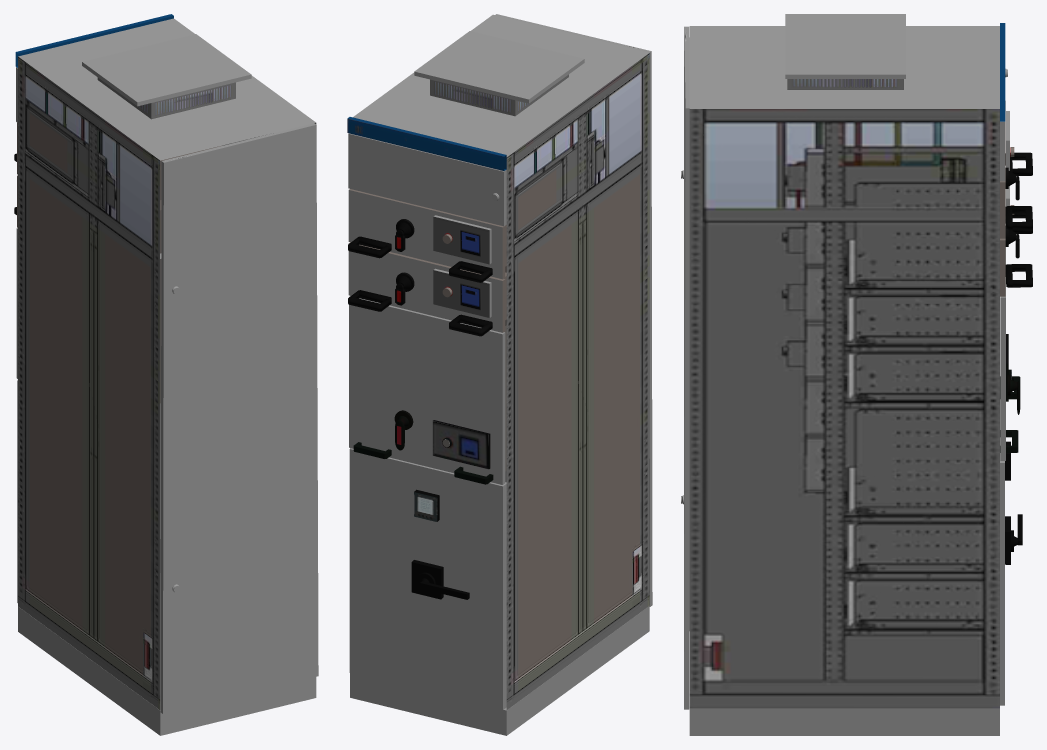
3 renders of one model, left to right at view 1: azimuth 30°, elevation 25°; view 2: azimuth 150°, elevation 25°; view 3: azimuth 270°, elevation 25°, orthographic. The views are drawn at different scales.
Parts seen in each view (by area): view 1: all.008, ct3; view 2: all.008, gdb, ct3, ct1, ct2, aa2-ct1-scree, aa2-ct3-scree, aa2-ct2-scree, AA1_C4_LAMP, AA1_C4_HANDLE; view 3: all.008, gdb, ct3, ct1, ct2.
Part boxes in pixels (x1=…): all.008: x1=15, y1=14, x2=318, y2=735; ct3: x1=16, y1=228, x2=161, y2=403; all.008: x1=347, y1=14, x2=652, y2=735; gdb: x1=349, y1=448, x2=506, y2=709; ct3: x1=349, y1=296, x2=506, y2=484; ct1: x1=348, y1=189, x2=506, y2=282; ct2: x1=348, y1=242, x2=506, y2=336; aa2-ct1-scree: x1=433, y1=215, x2=491, y2=264; aa2-ct3-scree: x1=432, y1=420, x2=490, y2=469; aa2-ct2-scree: x1=433, y1=268, x2=491, y2=317; AA1_C4_LAMP: x1=414, y1=489, x2=439, y2=521; AA1_C4_HANDLE: x1=417, y1=572, x2=469, y2=599; all.008: x1=681, y1=14, x2=1007, y2=735; gdb: x1=1000, y1=399, x2=1010, y2=705; ct3: x1=1000, y1=224, x2=1020, y2=460; ct1: x1=1000, y1=101, x2=1032, y2=238; ct2: x1=1000, y1=213, x2=1032, y2=296.
Size of the model in its own units: 0.6004 by 2.19 by 1.08.
13 materials, 11 textured.
